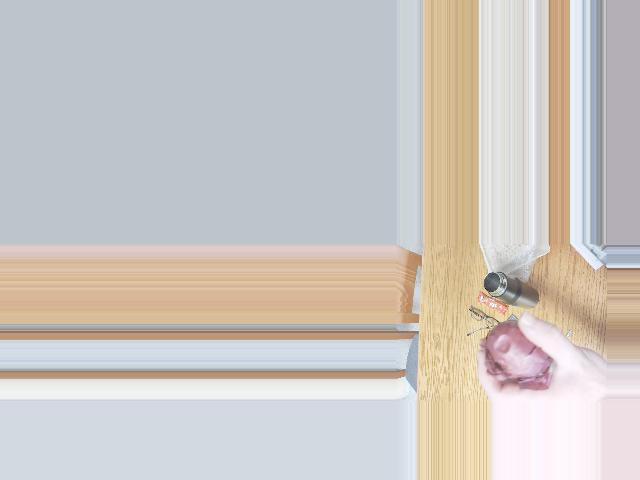onion: (486, 320, 552, 383)
